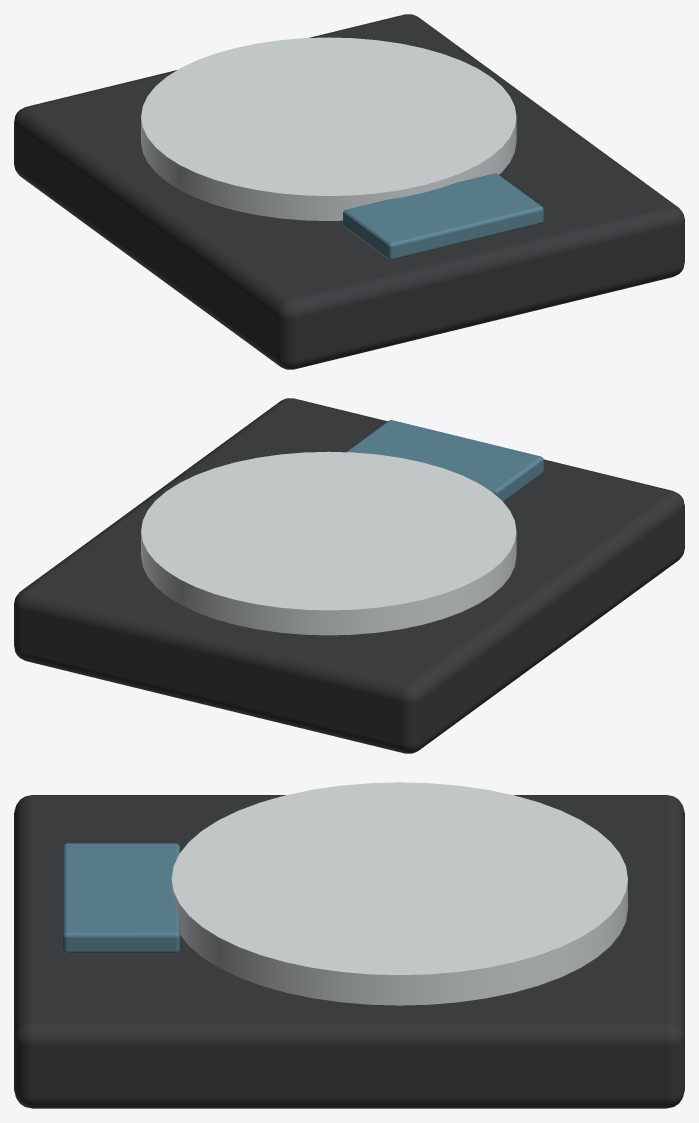
File: barbershop-and-hair-salon-scale-7d4fea48__29676.glb
3 views of the same model, one above another, from view 1: azimuth 30°, elevation 25°; view 2: azimuth 150°, elevation 25°; view 3: azimuth 270°, elevation 25° (orthographic). The views are drawn at different scales.
Parts seen in each view (by area): view 1: scale; view 2: scale; view 3: scale.
Part boxes in pixels (x1,y1,x2,y2): scale: (14, 14, 684, 369); scale: (14, 398, 684, 753); scale: (14, 782, 684, 1108).
Size of the model in its own units: 0.17 by 0.038 by 0.2.
